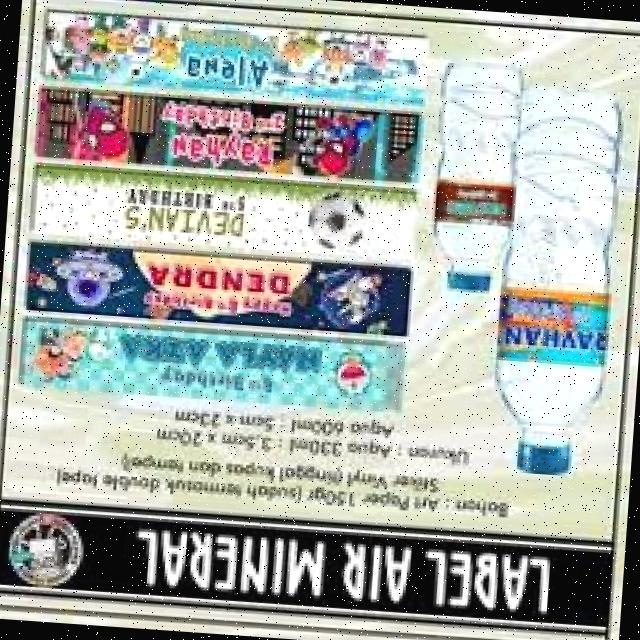bottle: (469, 76, 640, 499), (422, 46, 534, 308)
label: (491, 280, 606, 367), (426, 180, 517, 228)
